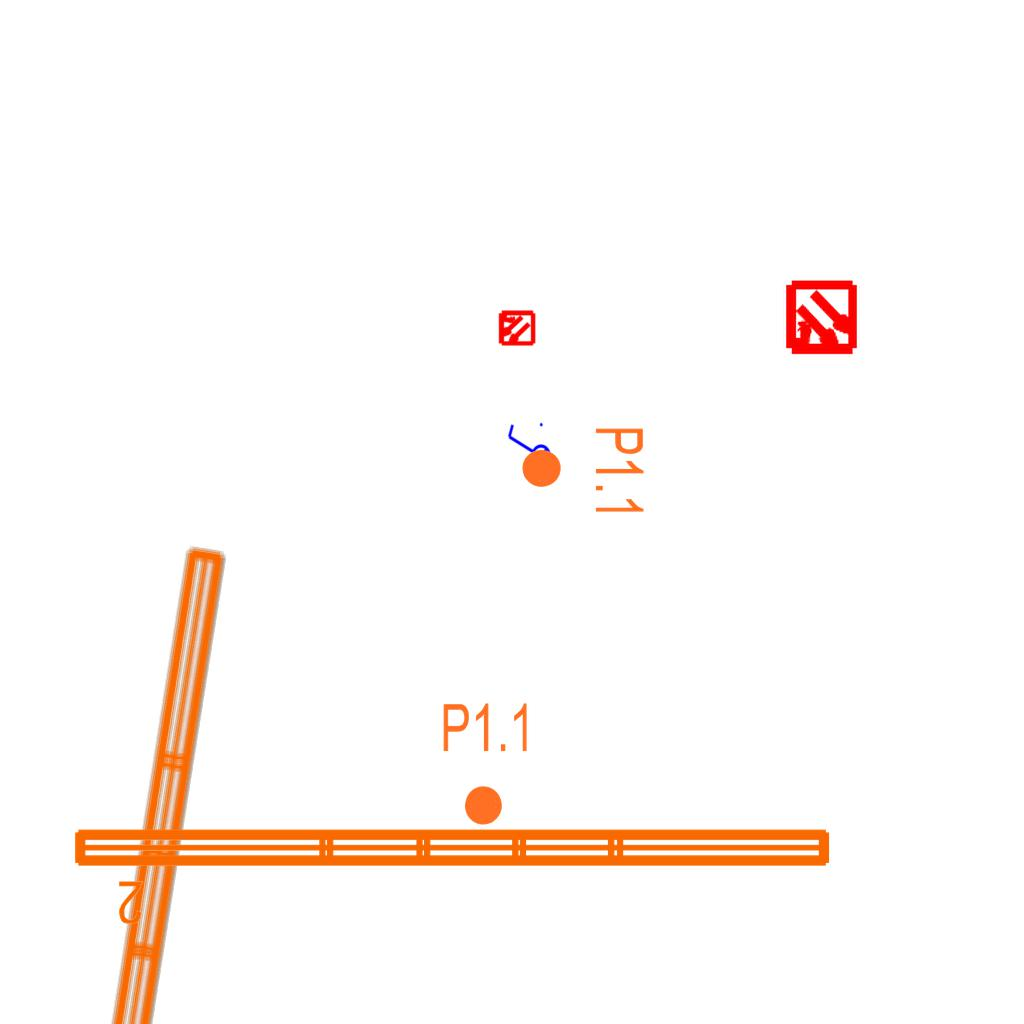Ambulanz_Pendelleuchte_LED: (57, 535, 289, 1024), (66, 817, 840, 929)
Ausschalter_beleuchtet: (504, 420, 552, 476)
Downlight_LED_Einbauleuchten_Flur: (440, 700, 533, 828), (519, 425, 647, 518)
OT_Multisensormelder_(Kombination_RMO_WMD): (765, 263, 878, 376), (488, 300, 544, 356)
